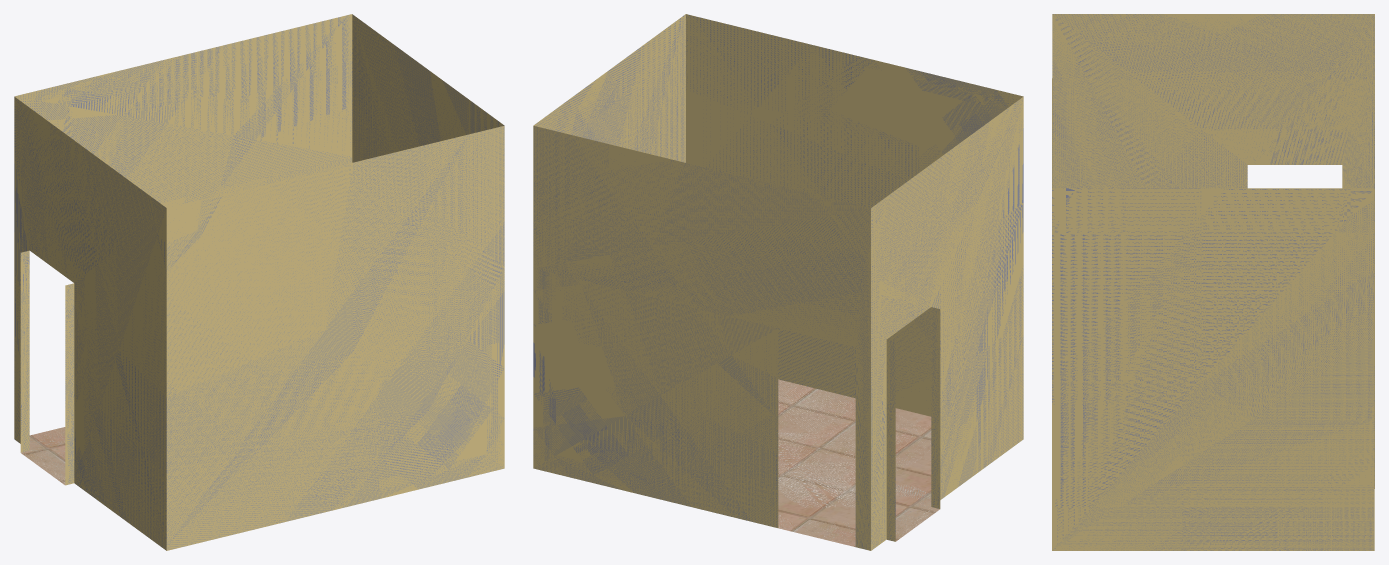
Rendered from DES012.obj.
3 views of the same model, side by side, from view 1: azimuth 30°, elevation 25°; view 2: azimuth 150°, elevation 25°; view 3: azimuth 270°, elevation 25° (orthographic). The views are drawn at different scales.
Parts seen in each view (by area): view 1: Mesh1 DES012 Model; view 2: Mesh1 DES012 Model; view 3: Mesh1 DES012 Model.
Part boxes in pixels (x1,y1,x2,y2): Mesh1 DES012 Model: [14, 14, 504, 550]; Mesh1 DES012 Model: [533, 14, 1023, 550]; Mesh1 DES012 Model: [1052, 14, 1374, 550].
Bounding box in the file's own units: 3.81 × 3.6 × 2.91.
Materials: 4 (2 with a texture image).
